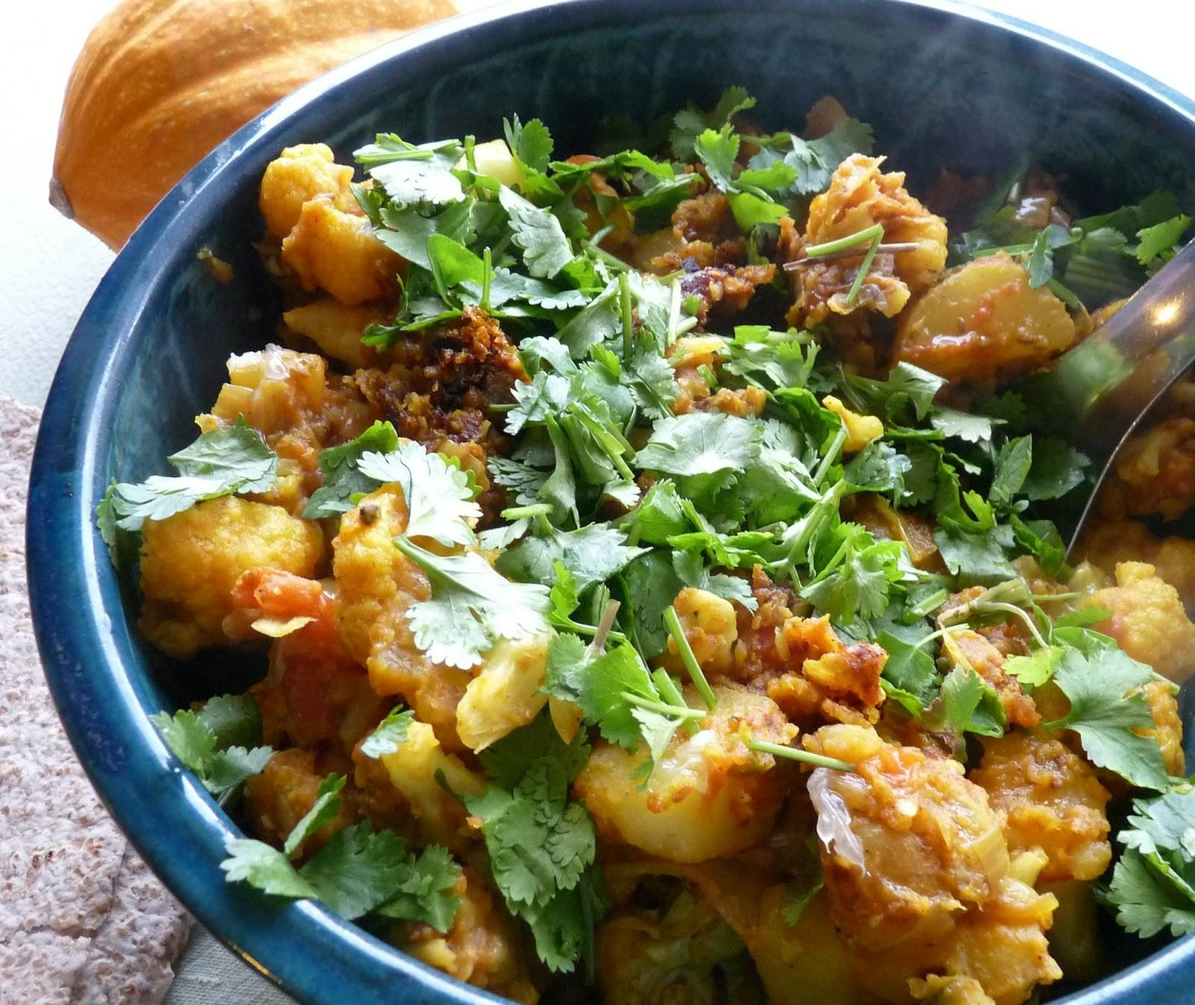AlooGobi: (137, 96, 1195, 1005)
